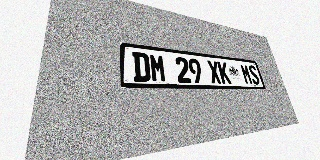2: (174, 56, 191, 83)
9: (187, 58, 204, 83)
D: (132, 52, 151, 82)
K: (217, 61, 232, 84)
M: (149, 53, 167, 82), (240, 64, 253, 84)
S: (247, 65, 261, 85)
X: (206, 60, 222, 84)
